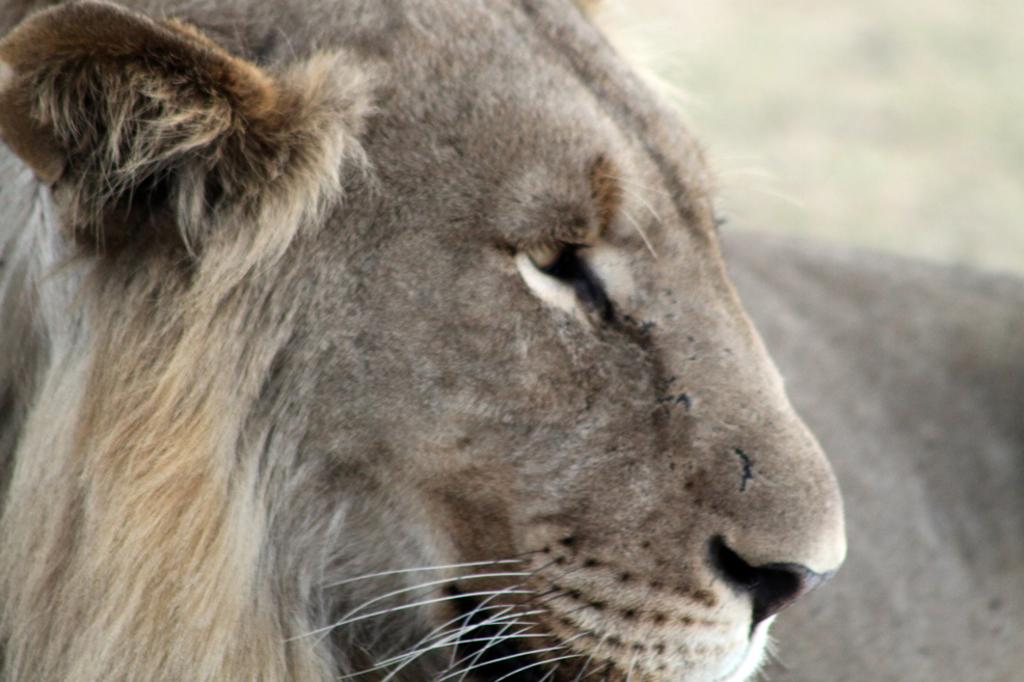lions: (0, 2, 1024, 682)
